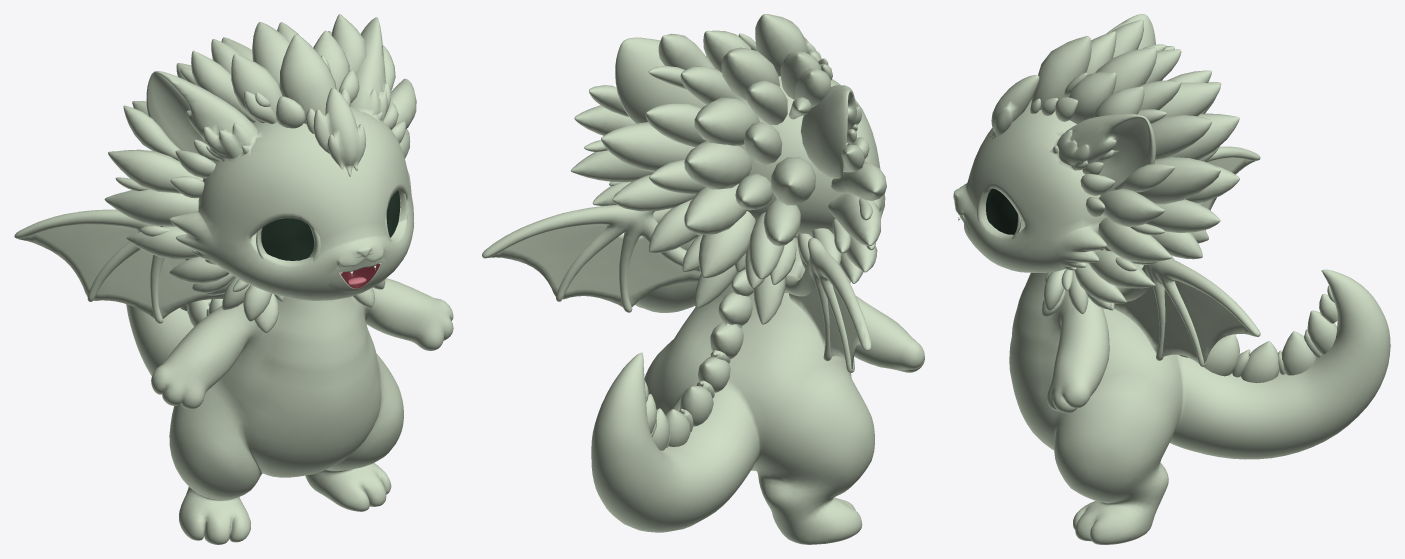
Rendered from jill-texture-input-neutral-v004.fbx.
3 renders of one model, left to right at view 1: azimuth 30°, elevation 25°; view 2: azimuth 150°, elevation 25°; view 3: azimuth 270°, elevation 25°, orthographic. The views are drawn at different scales.
Visible parts, largest first — view 1: Jill_Texture_Input_Neutral_v004; view 2: Jill_Texture_Input_Neutral_v004; view 3: Jill_Texture_Input_Neutral_v004.
Boxes of the visible parts, box(x1,y1,x2,y2) form: Jill_Texture_Input_Neutral_v004: box(14, 14, 453, 544); Jill_Texture_Input_Neutral_v004: box(482, 14, 924, 544); Jill_Texture_Input_Neutral_v004: box(953, 14, 1390, 544).
Size of the model in its own units: 82.18 by 99.95 by 84.72.
